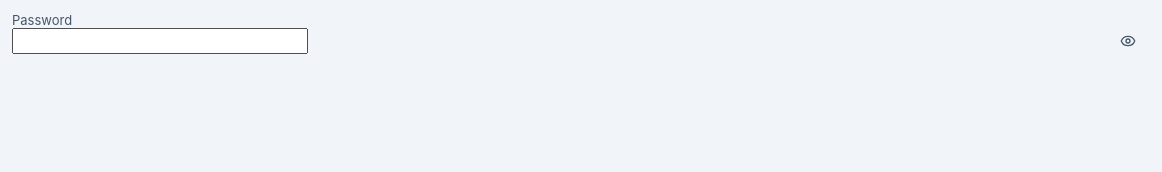
Scenario: hides the password by default and toggles visibility with the eye button
This screenshot has width=1162, height=172.
Later steps or results of the test are not shown.
Type "Secret-Passw0rd!" into the password field labelled "Password" at (160, 41), box [12,28,308,54]
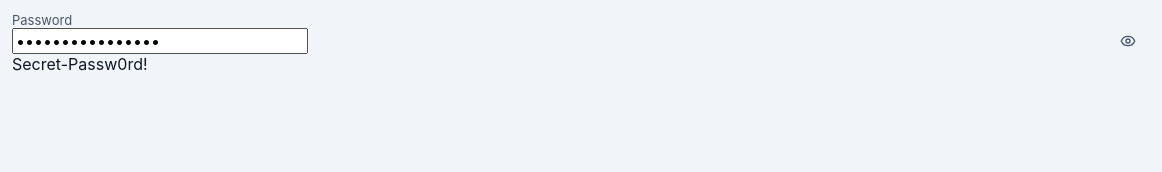
Click the button named "Show password" at (1128, 41), box [1111,24,1145,58]
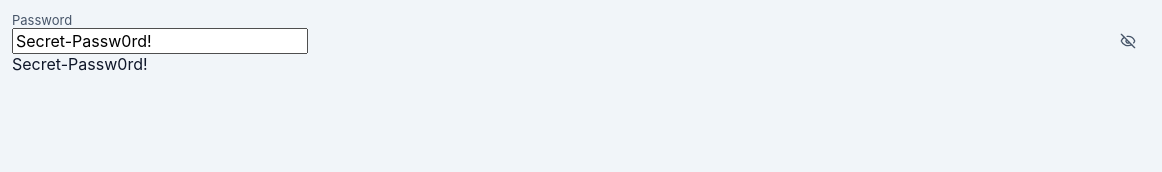
Result: the button named "Hide password" is pressed at [1111,24,1145,58]
